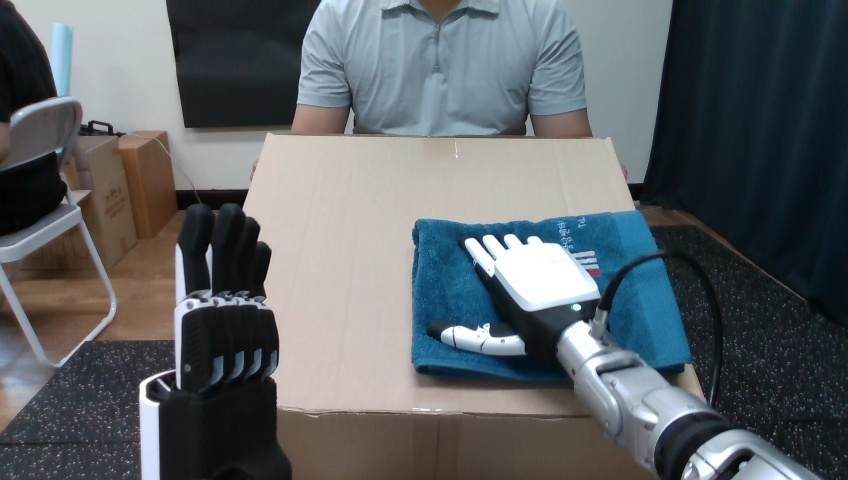left robot hand: (428, 234, 817, 479), (140, 204, 291, 478), (606, 256, 715, 402)
